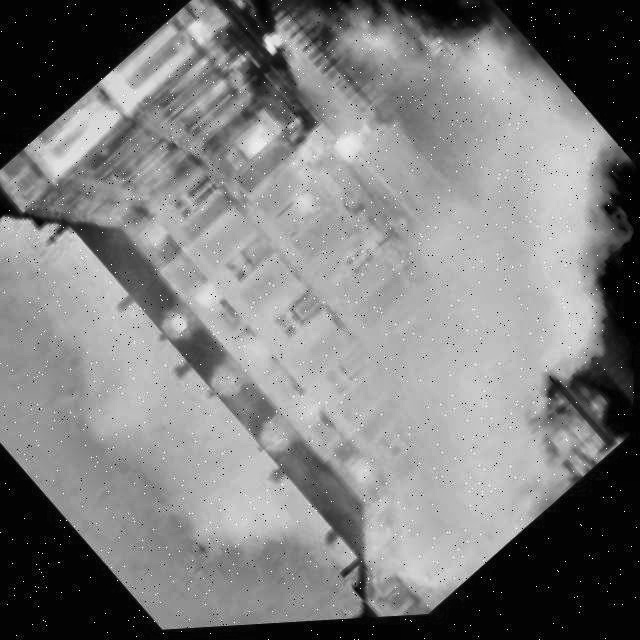Smoke: (0, 0, 638, 628)
